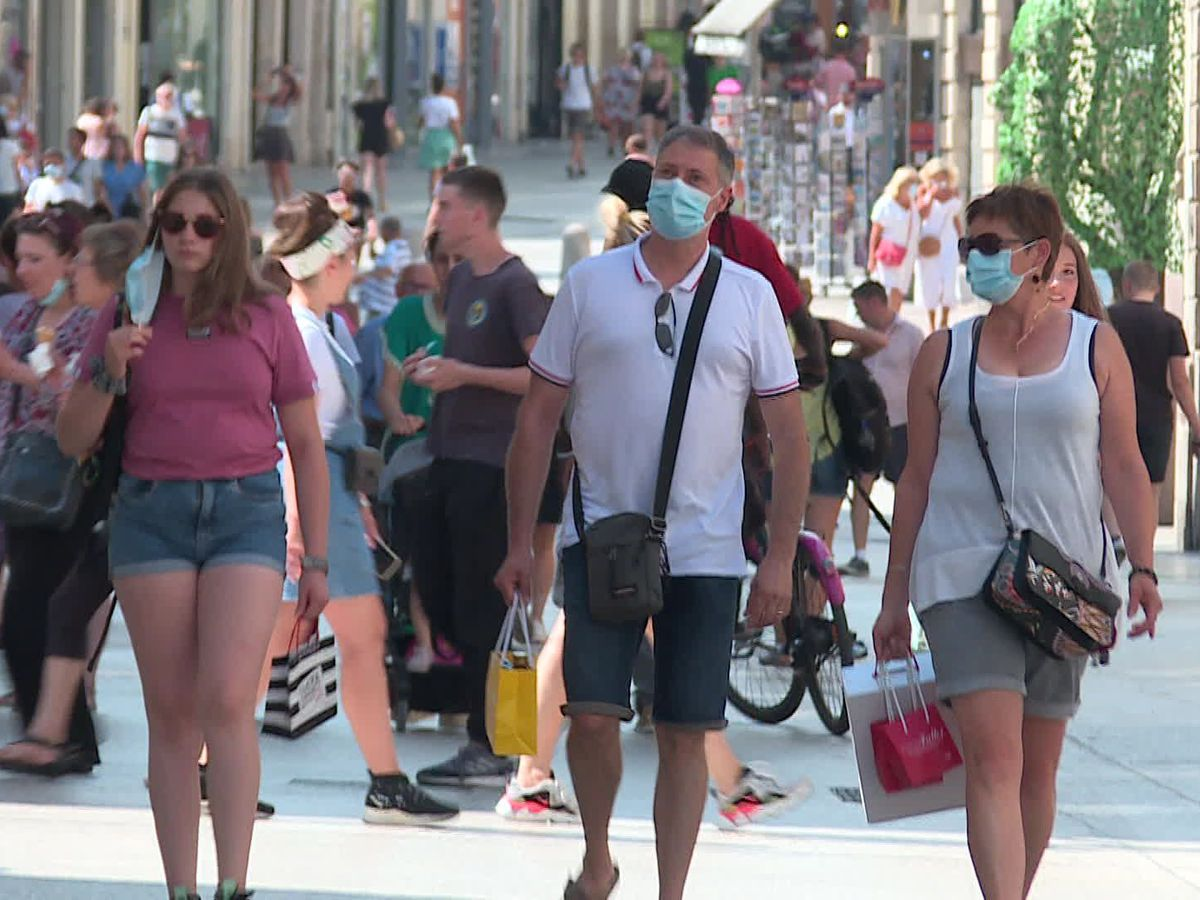with_incorrect_mask: (15, 242, 68, 306)
with_mask: (653, 153, 710, 238), (961, 228, 1020, 303)
without_mask: (156, 206, 226, 272), (435, 187, 489, 252)
